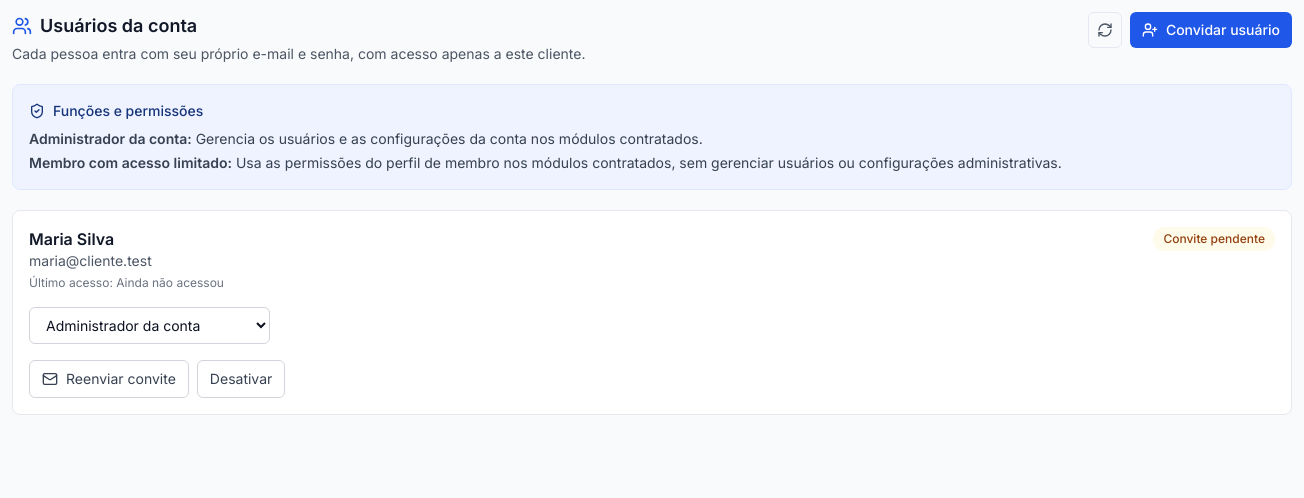
ClientUsersManager › keeps the roster when the last-admin protection rejects a change
Select "Membro com acesso limitado" in the dropdown named "Função de Maria Silva" at (150, 326), box x1=29 y1=307 x2=270 y2=344
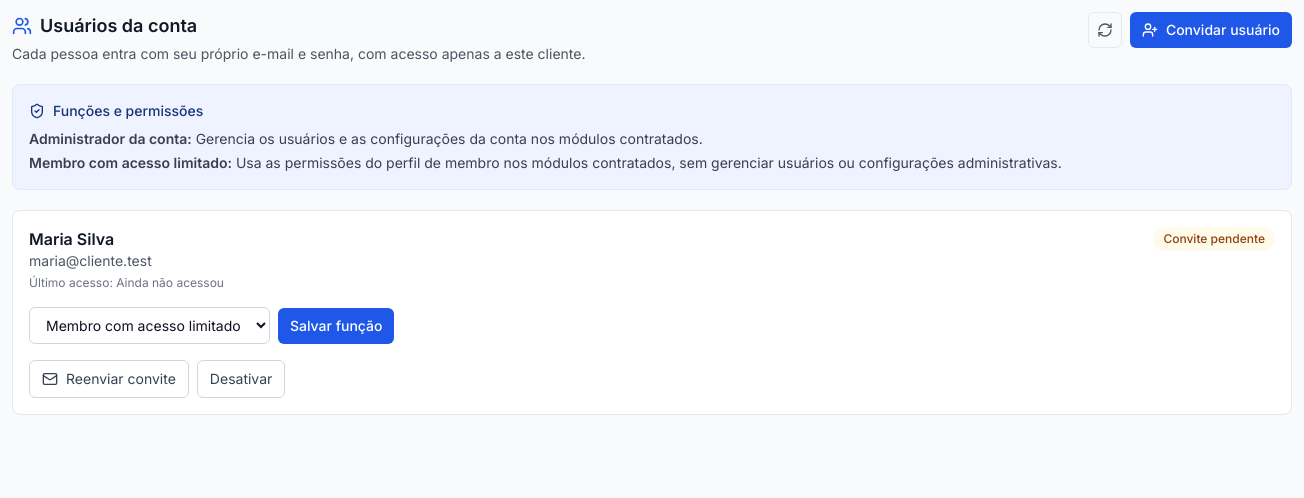
Result: the button "Salvar função" is shown
Click the button "Salvar função" at (336, 326), box x1=278 y1=308 x2=394 y2=344
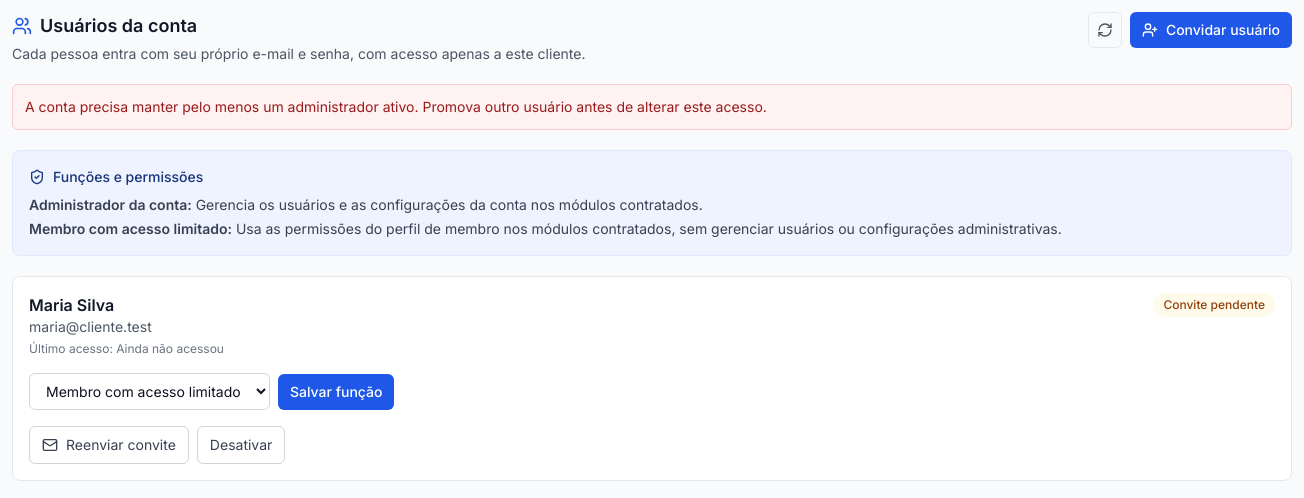
Expected: the text "Maria Silva" is shown, x1=29 y1=295 x2=114 y2=315
Result: the text "pelo menos um administrador ativo" is shown at x1=25 y1=98 x2=767 y2=115
